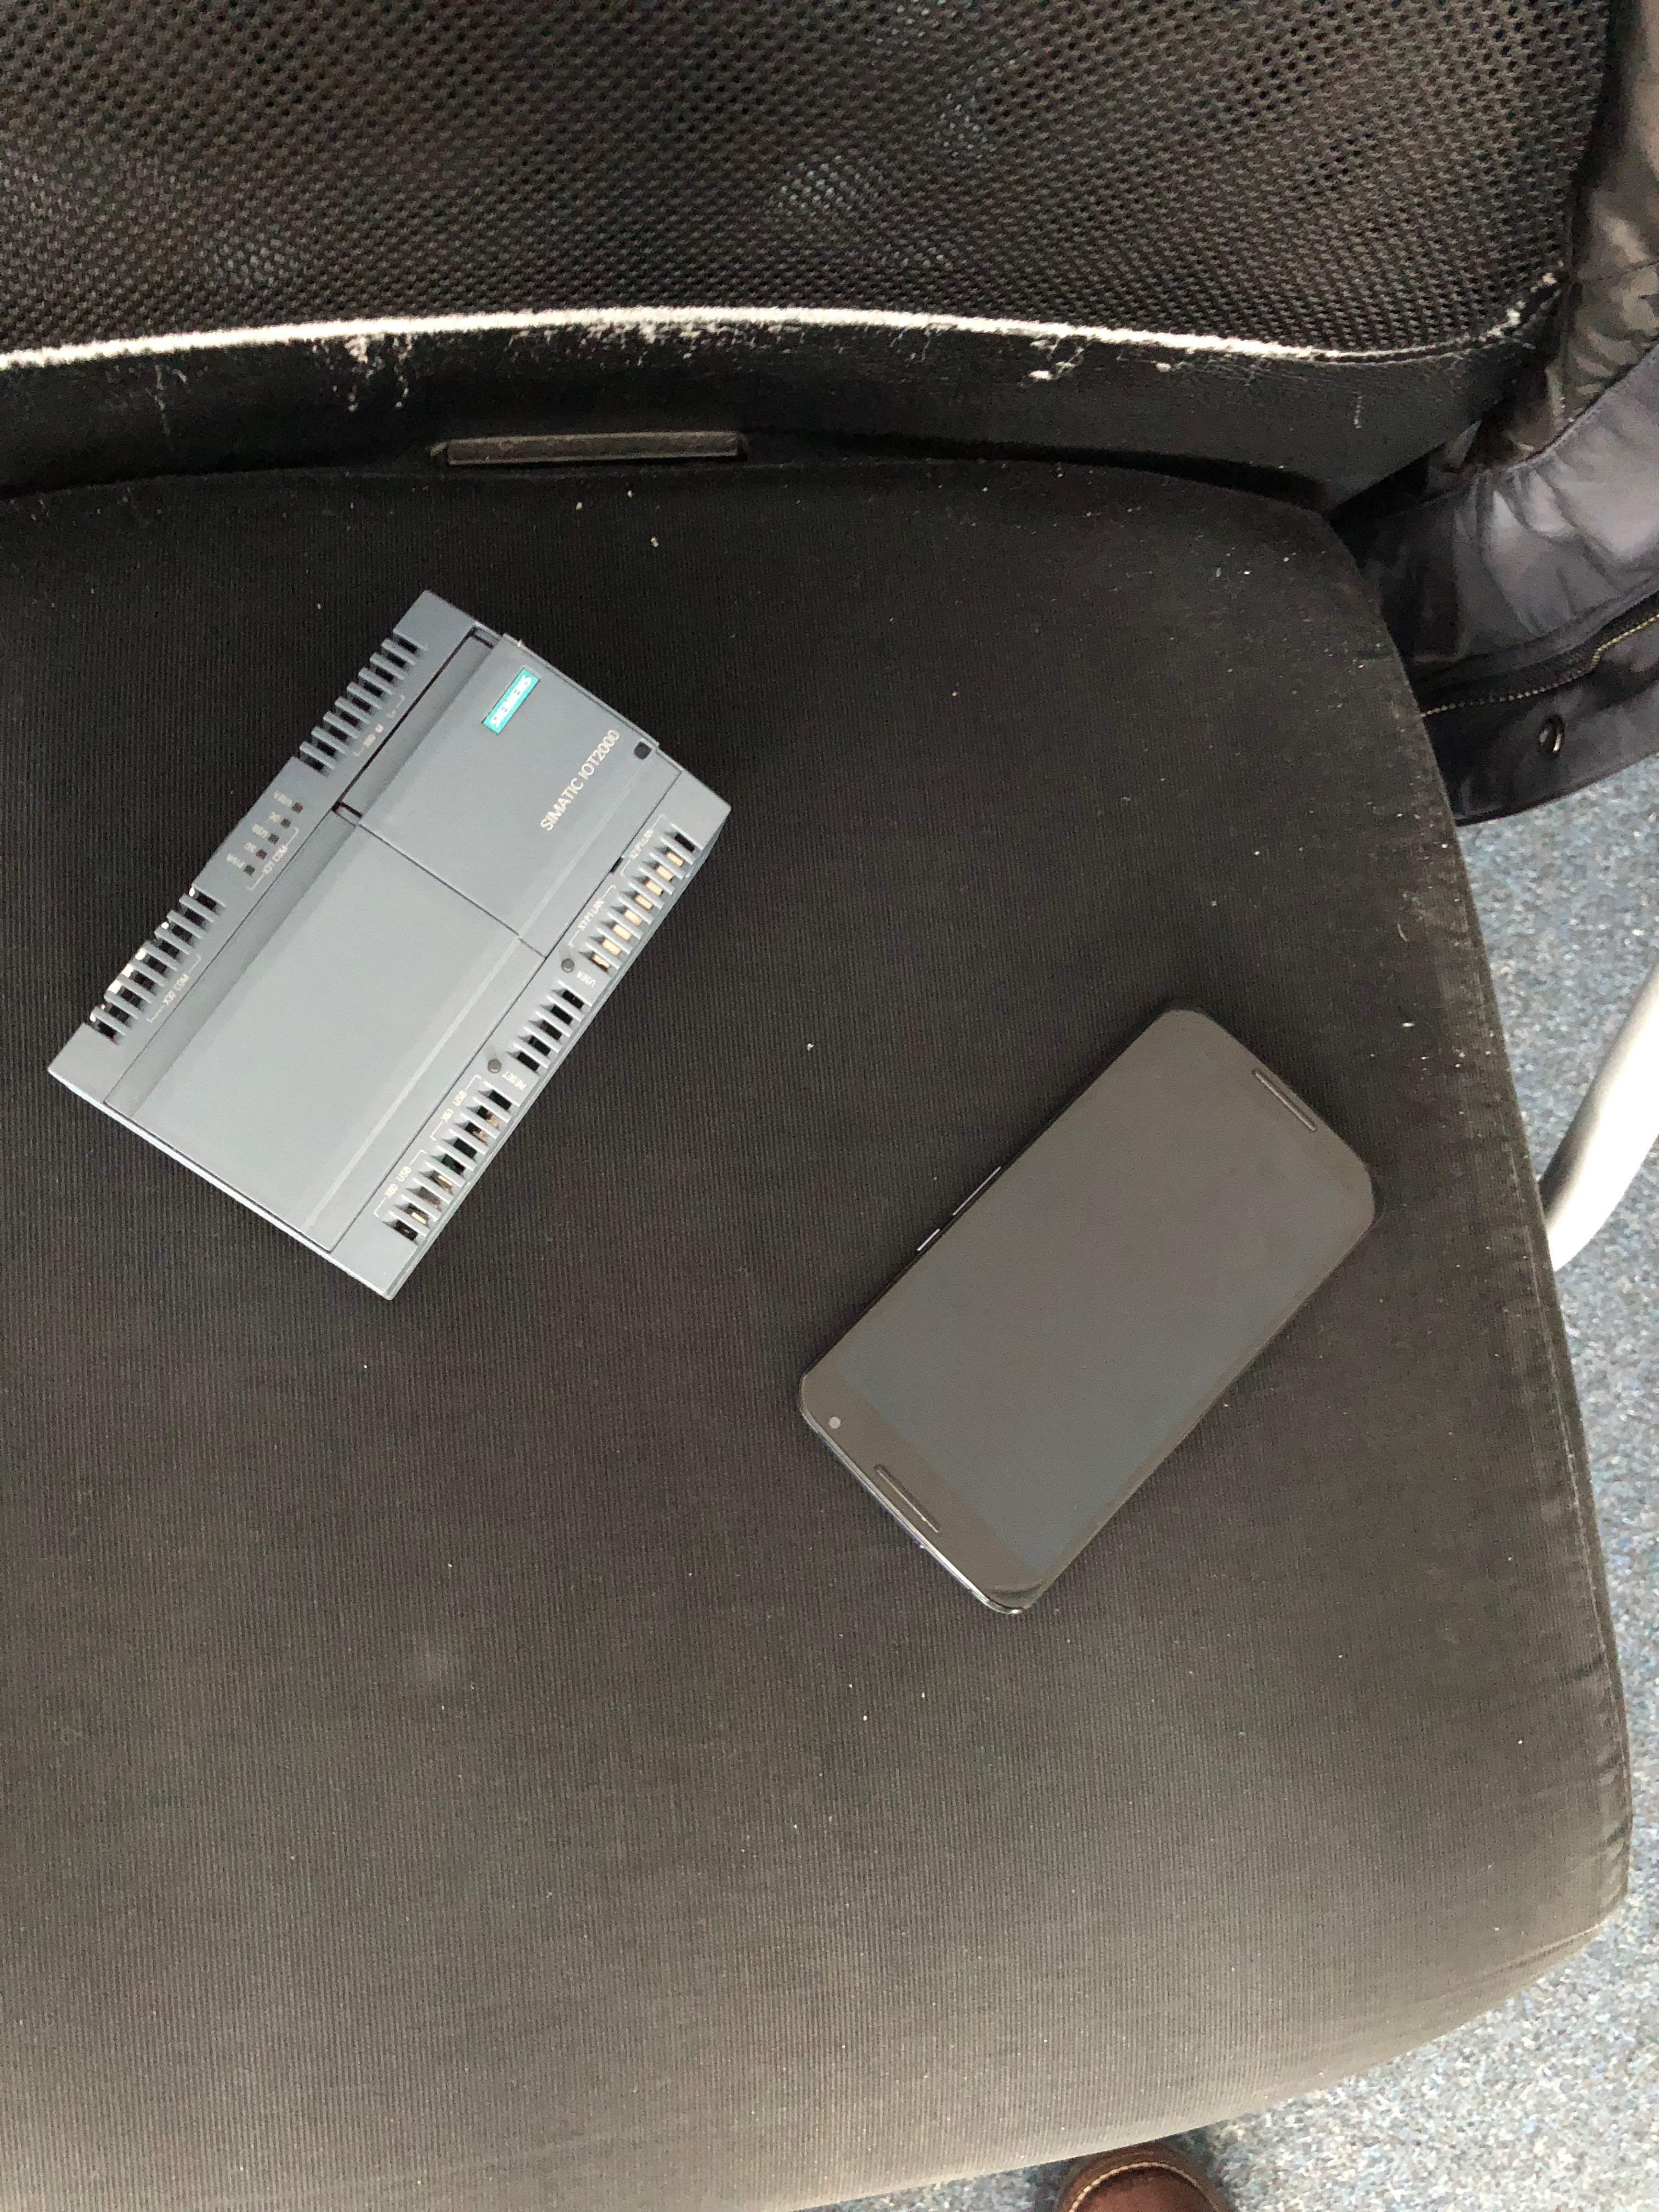device: (47, 589, 732, 1301)
